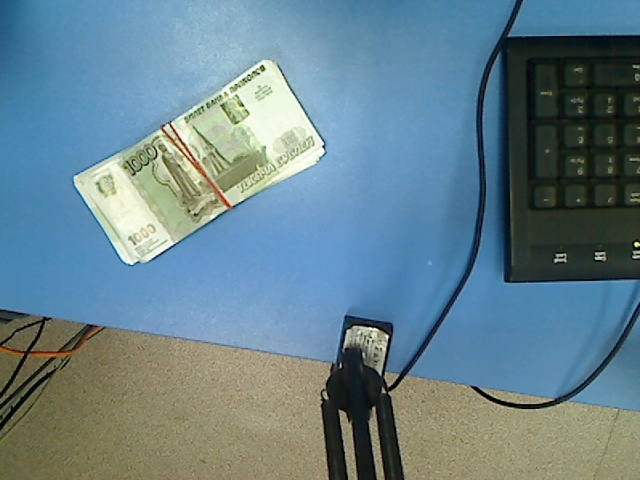banknotes: (71, 58, 328, 268)
